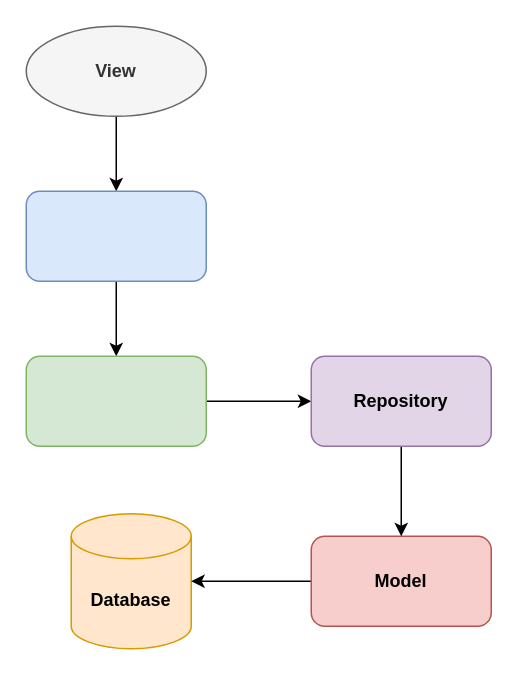
Some shapes in this 518 by 675 pixel diagram are drawn without their labels. The centre of each missing label's shape, as x and y in pixels:
"Controller" belongs at point (115, 235).
"Service" belongs at point (115, 400).
